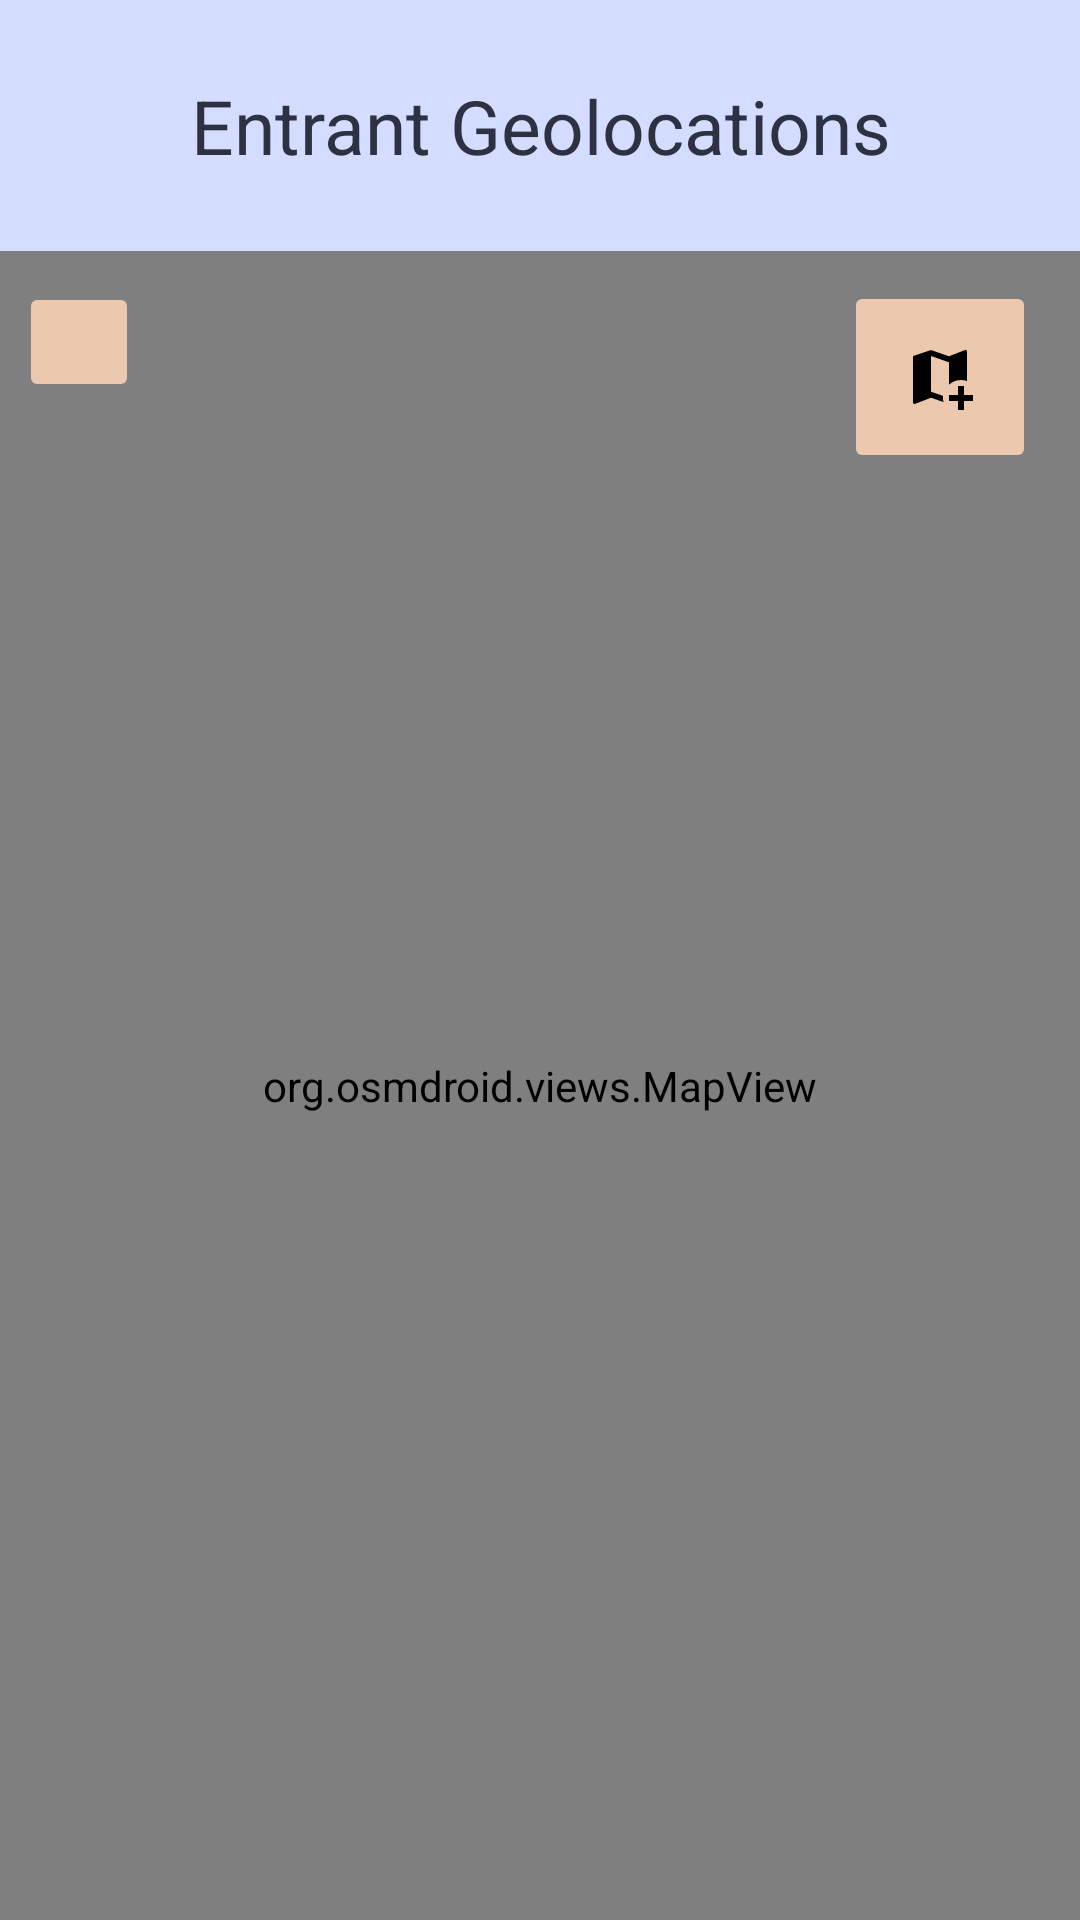

Screen size 1080 x 1920. Icon name, then its box in pixels as (x1, y1, x2, y2):
map plus: (856, 299, 1024, 455)
